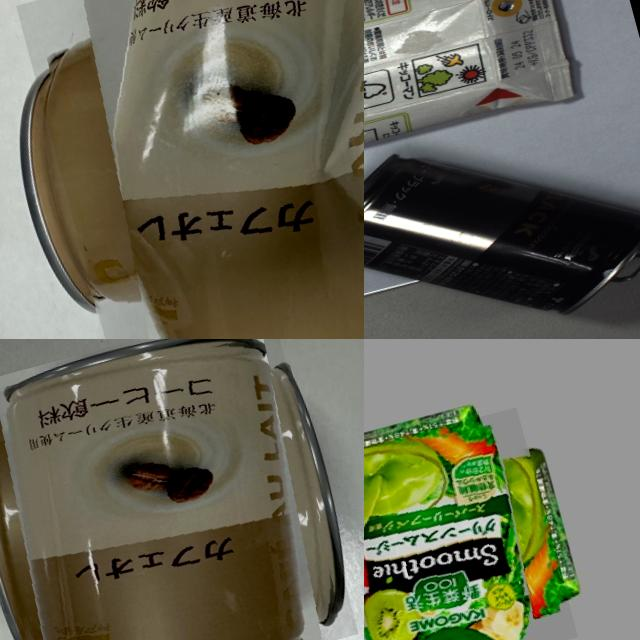Aluminium Foil: (364, 0, 586, 232), (364, 405, 577, 640)
Can: (15, 0, 364, 339), (0, 339, 358, 640), (364, 94, 640, 339)
